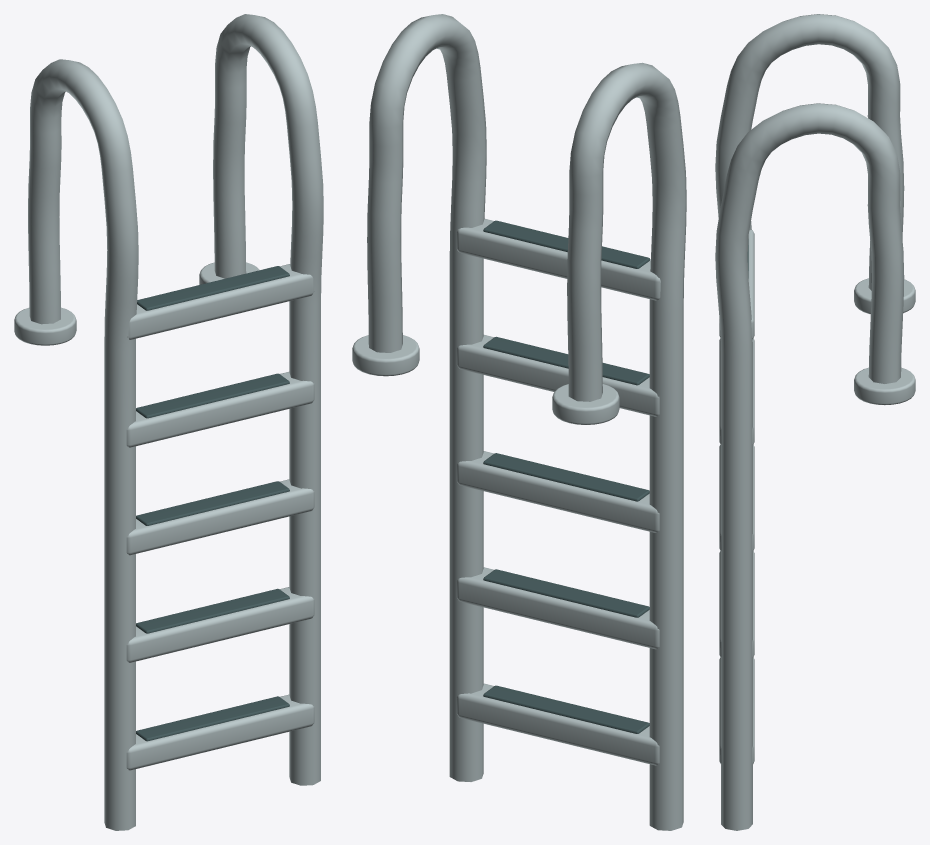
File: pool.ladder-new.glb
The picture shows the model from 3 angles, left to right: view 1: azimuth 30°, elevation 25°; view 2: azimuth 150°, elevation 25°; view 3: azimuth 270°, elevation 25°; orthographic projection. The views are drawn at different scales.
Parts seen in each view (by area): view 1: Deck flange; view 2: Deck flange; view 3: Deck flange.
Boxes of the visible parts, left/top/right/bottom form: Deck flange: left=14, top=14, right=323, bottom=830; Deck flange: left=352, top=14, right=686, bottom=830; Deck flange: left=715, top=14, right=915, bottom=830.
Size of the model in its own units: 0.465 by 1.35 by 0.3414.
